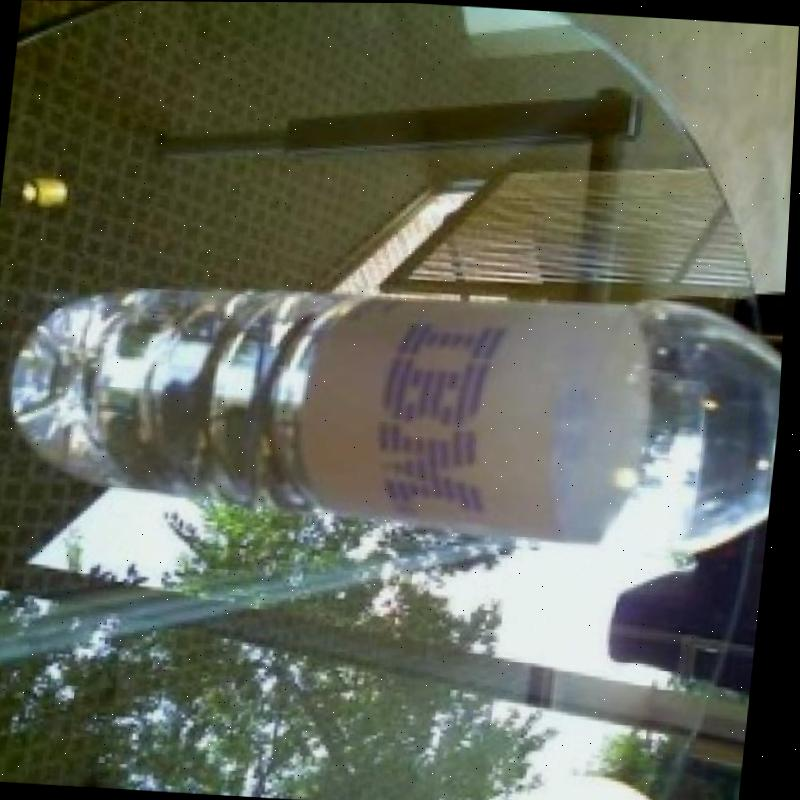botella: (1, 259, 789, 566)
